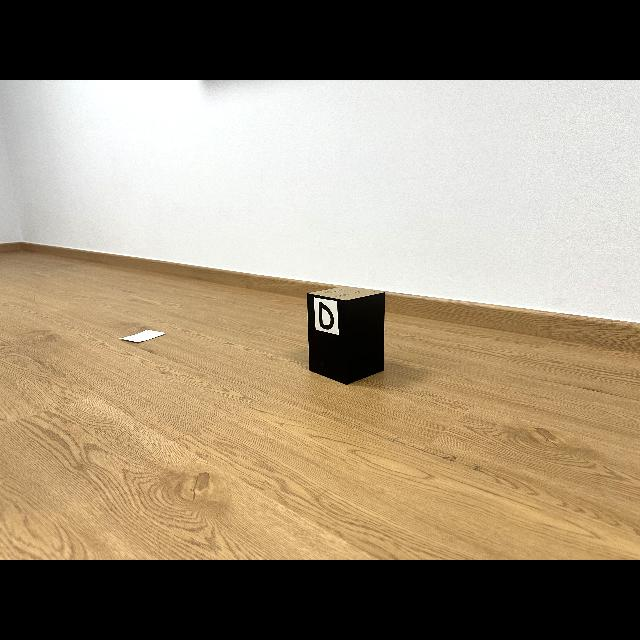D: (319, 301, 334, 330)
